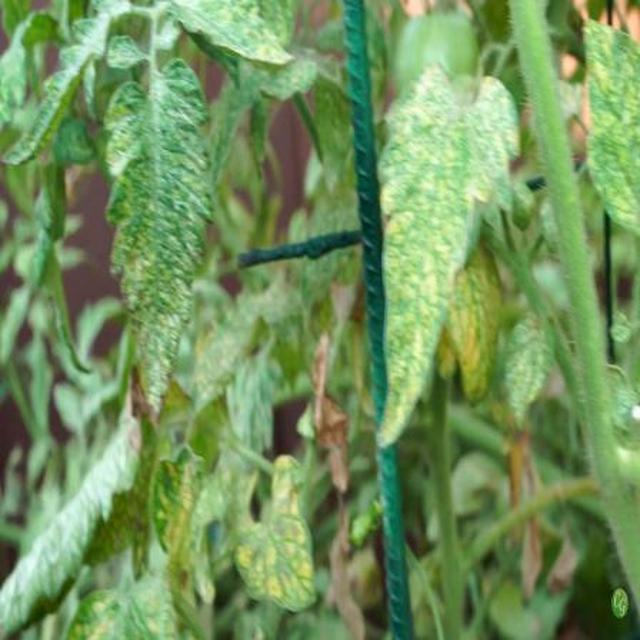Spider Mites Leaf: (87, 181, 640, 640)
